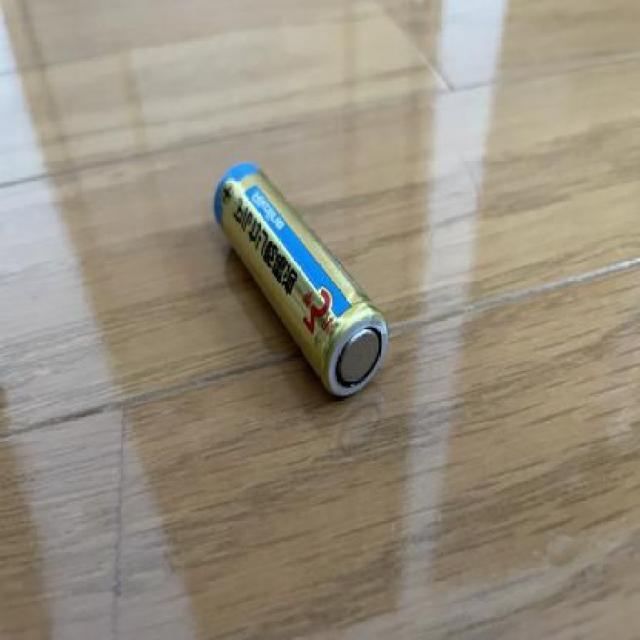hazardous waste: (212, 157, 396, 397)
